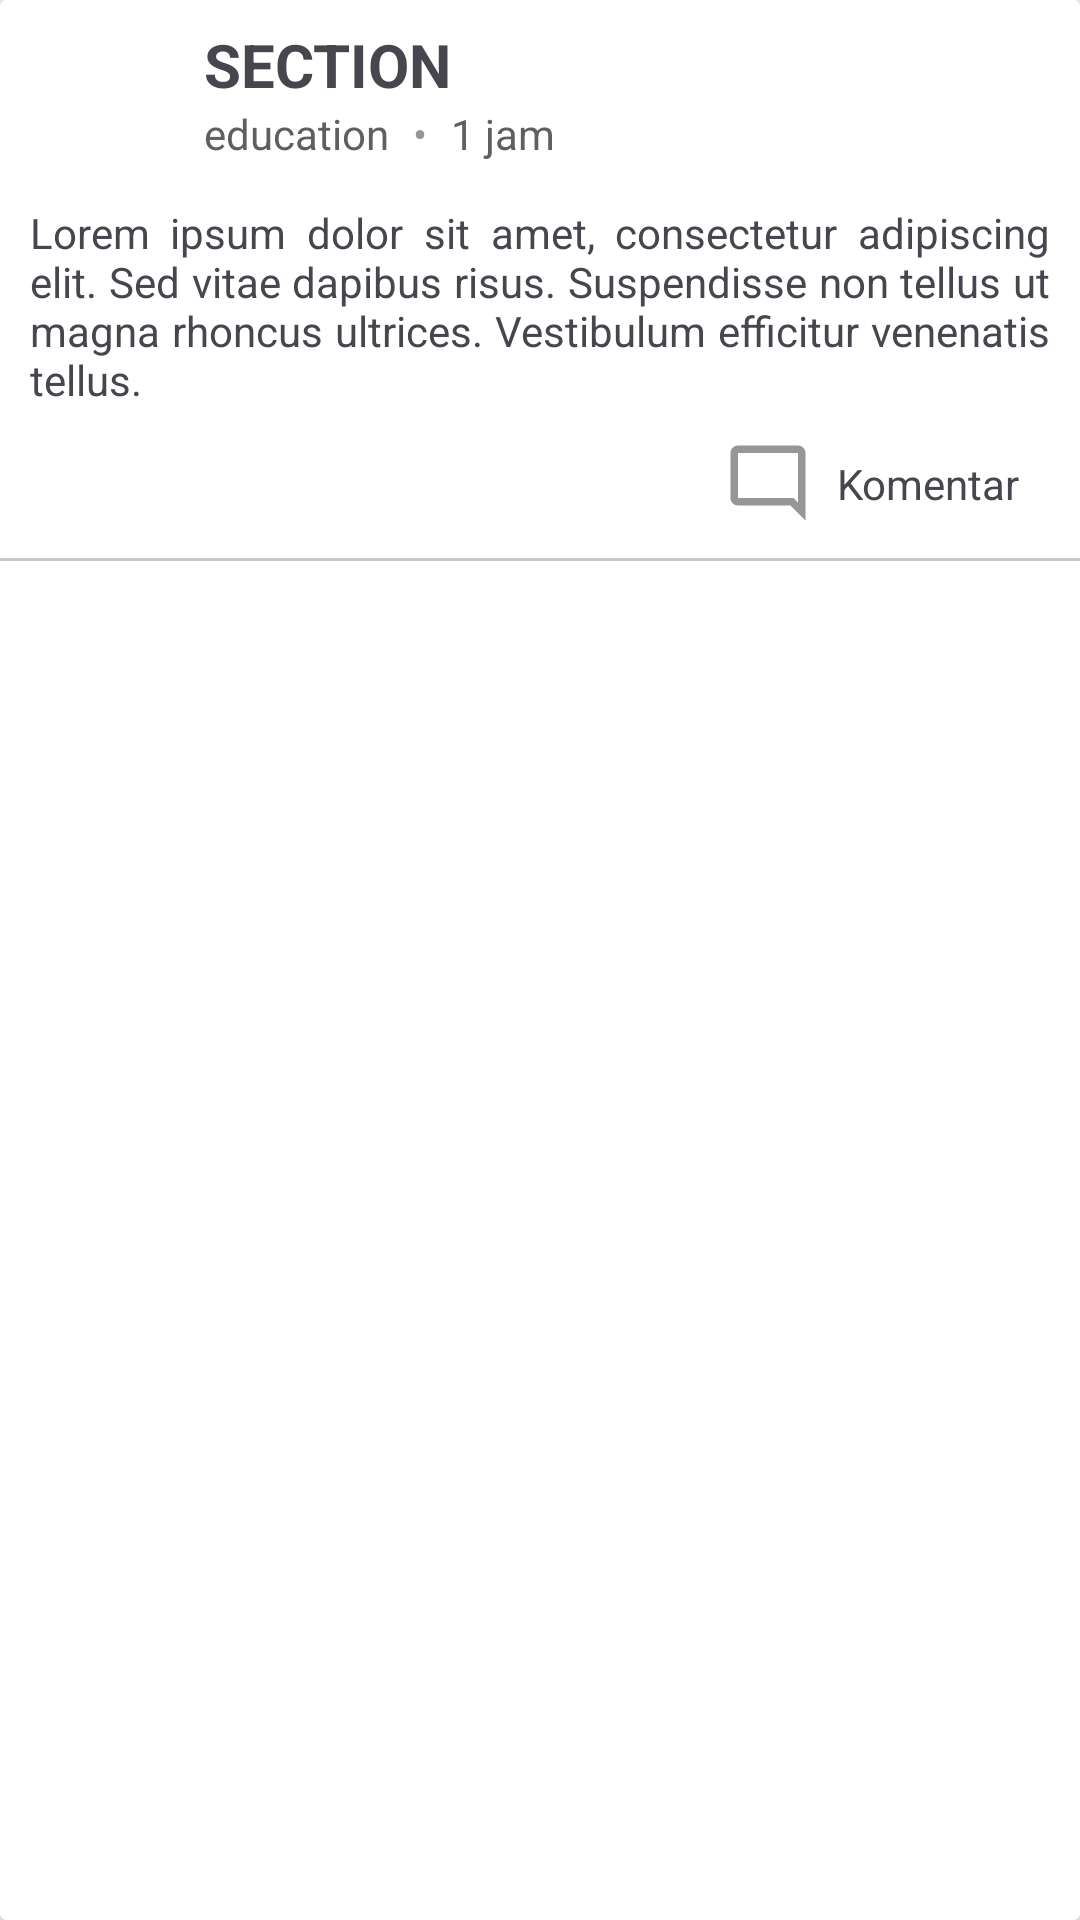

Icons on this 1080x1920 Android screen, each with the point to tap as (x,y):
comment: (768,482)
